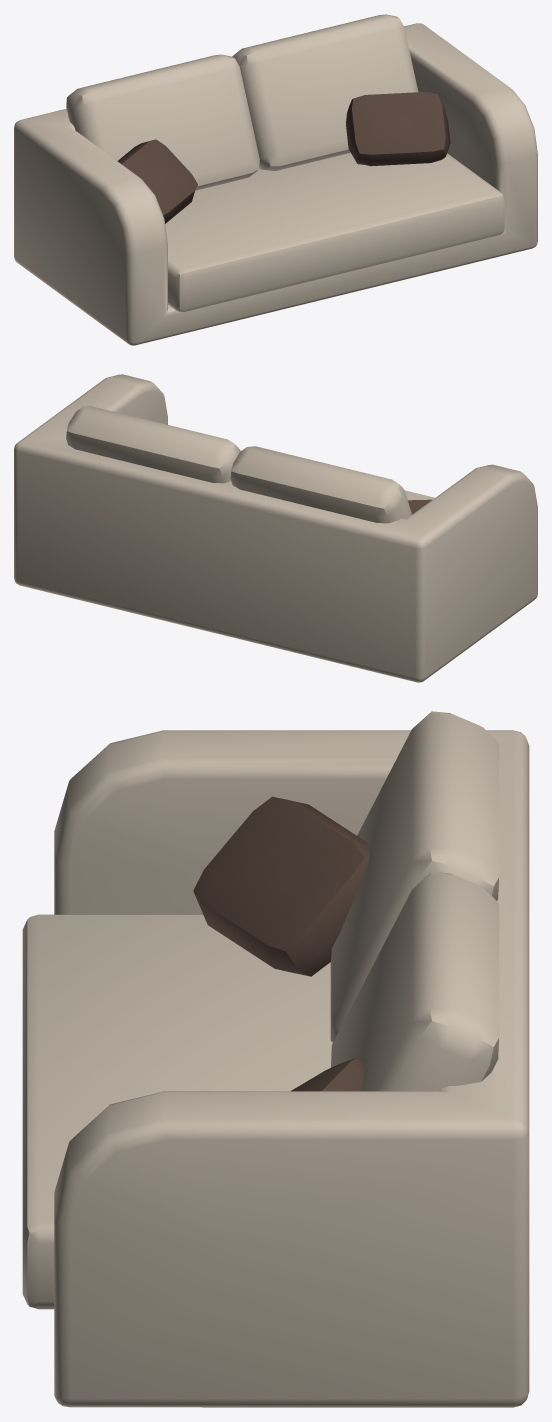
File: couch_pillows.obj
3 views of the same model, one above another, from view 1: azimuth 30°, elevation 25°; view 2: azimuth 150°, elevation 25°; view 3: azimuth 270°, elevation 25° (orthographic). The views are drawn at different scales.
Parts seen in each view (by area): view 1: couch_pillows_Plane.004; view 2: couch_pillows_Plane.004; view 3: couch_pillows_Plane.004.
Part boxes in pixels (x1=…): couch_pillows_Plane.004: x1=14, y1=14, x2=537, y2=345; couch_pillows_Plane.004: x1=14, y1=374, x2=537, y2=682; couch_pillows_Plane.004: x1=22, y1=711, x2=529, y2=1407.
Size of the model in its own units: 3 by 1.22 by 1.6.
Materials: 1 (1 with a texture image).
